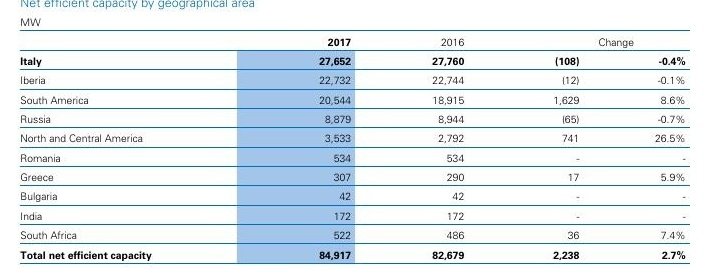table: (0, 0, 707, 280)
